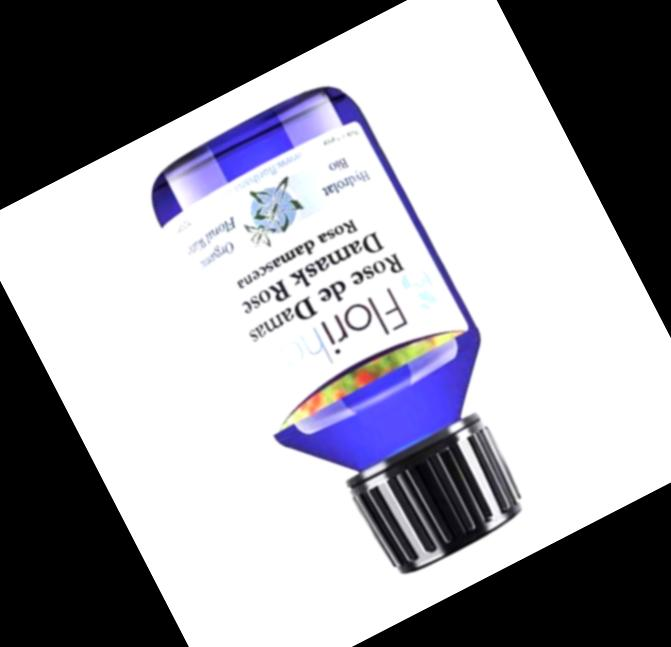cosmetic: (136, 70, 568, 606)
